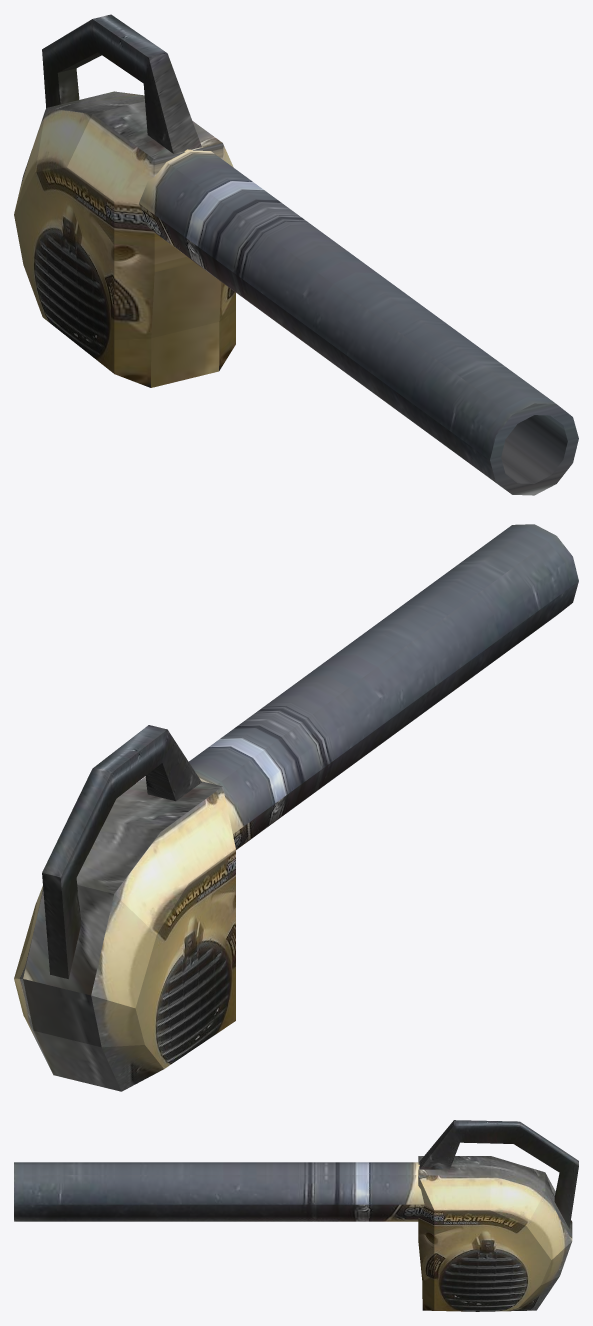
Rendered from SM_LeafBlower00.fbx.
3 renders of one model, top to bottom at view 1: azimuth 30°, elevation 25°; view 2: azimuth 150°, elevation 25°; view 3: azimuth 270°, elevation 25°, orthographic. The views are drawn at different scales.
Visible parts, largest first — view 1: SM_LeafBlower00; view 2: SM_LeafBlower00; view 3: SM_LeafBlower00.
Part boxes in pixels (x1=…): SM_LeafBlower00: x1=14, y1=14, x2=578, y2=495; SM_LeafBlower00: x1=14, y1=524, x2=578, y2=1091; SM_LeafBlower00: x1=14, y1=1120, x2=578, y2=1311.
Size of the model in its own units: 9.12 by 22 by 62.82.
